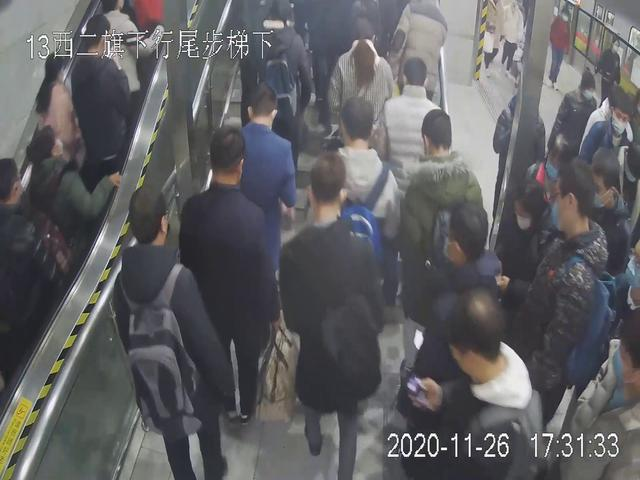person: (87, 188, 239, 476), (169, 133, 296, 441), (273, 158, 392, 472), (528, 153, 628, 438), (395, 103, 493, 337), (324, 15, 400, 190), (69, 14, 140, 198), (545, 2, 575, 87)
